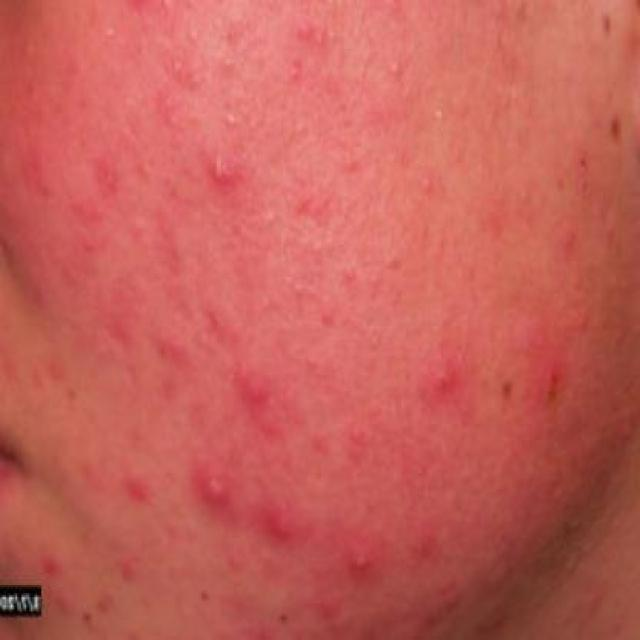acne: (224, 352, 290, 420), (236, 483, 312, 540), (189, 145, 243, 208), (426, 348, 476, 400), (115, 464, 163, 518), (189, 464, 234, 516), (344, 542, 382, 593), (260, 591, 300, 636), (184, 570, 224, 610), (376, 46, 416, 86), (417, 167, 451, 204), (178, 18, 208, 49), (212, 110, 250, 133), (258, 200, 284, 230), (290, 271, 310, 304), (96, 16, 118, 41), (310, 230, 332, 255)
